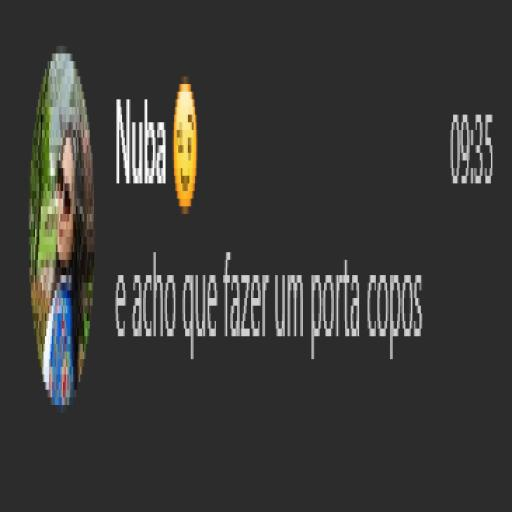chat: (1, 0, 511, 504)
